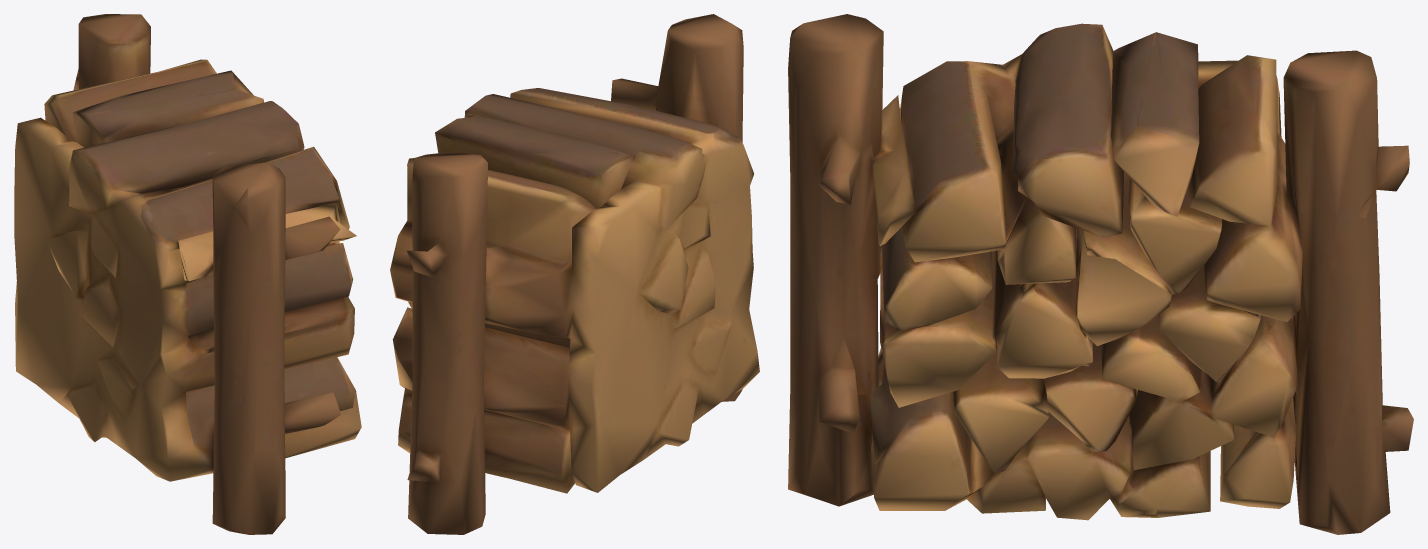
Rendered from f-woodpile.glb.
The picture shows the model from 3 angles, left to right: view 1: azimuth 30°, elevation 25°; view 2: azimuth 150°, elevation 25°; view 3: azimuth 270°, elevation 25°; orthographic projection. The views are drawn at different scales.
Visible parts, largest first — view 1: tripo_node_8216332c-1b83-4c5f-9e0b-f1992b940eb6; view 2: tripo_node_8216332c-1b83-4c5f-9e0b-f1992b940eb6; view 3: tripo_node_8216332c-1b83-4c5f-9e0b-f1992b940eb6.
Part boxes in pixels (x1,y1,x2,y2): tripo_node_8216332c-1b83-4c5f-9e0b-f1992b940eb6: (14,14,361,534); tripo_node_8216332c-1b83-4c5f-9e0b-f1992b940eb6: (390,14,759,534); tripo_node_8216332c-1b83-4c5f-9e0b-f1992b940eb6: (788,14,1413,534).
Bounding box in the file's own units: 0.4916 × 0.803 × 1.
1 material, 1 textured.
